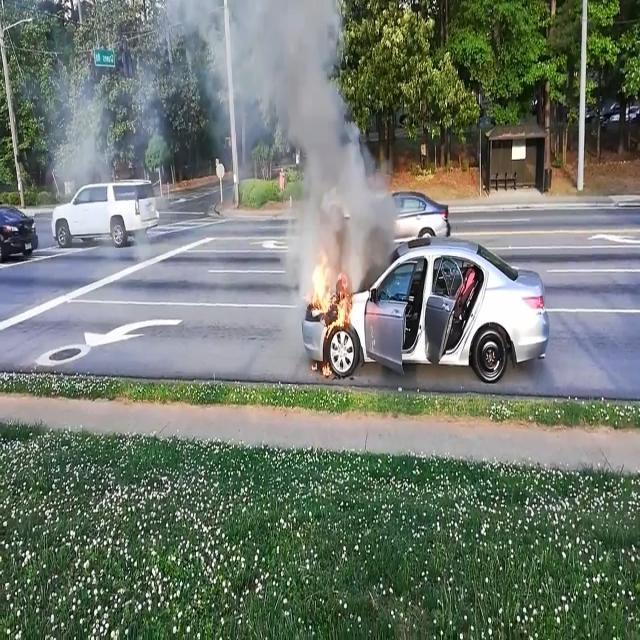fire: (300, 232, 354, 384)
